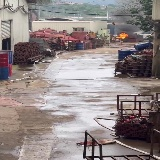fire: (115, 33, 128, 39)
